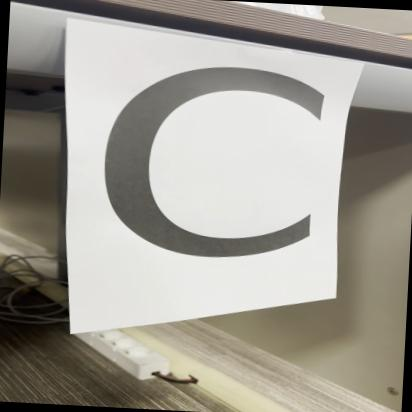seat: (88, 54, 338, 294)
